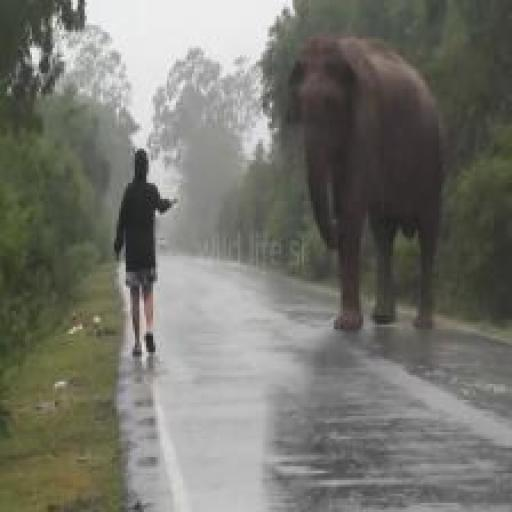Elephant: (263, 28, 479, 354)
